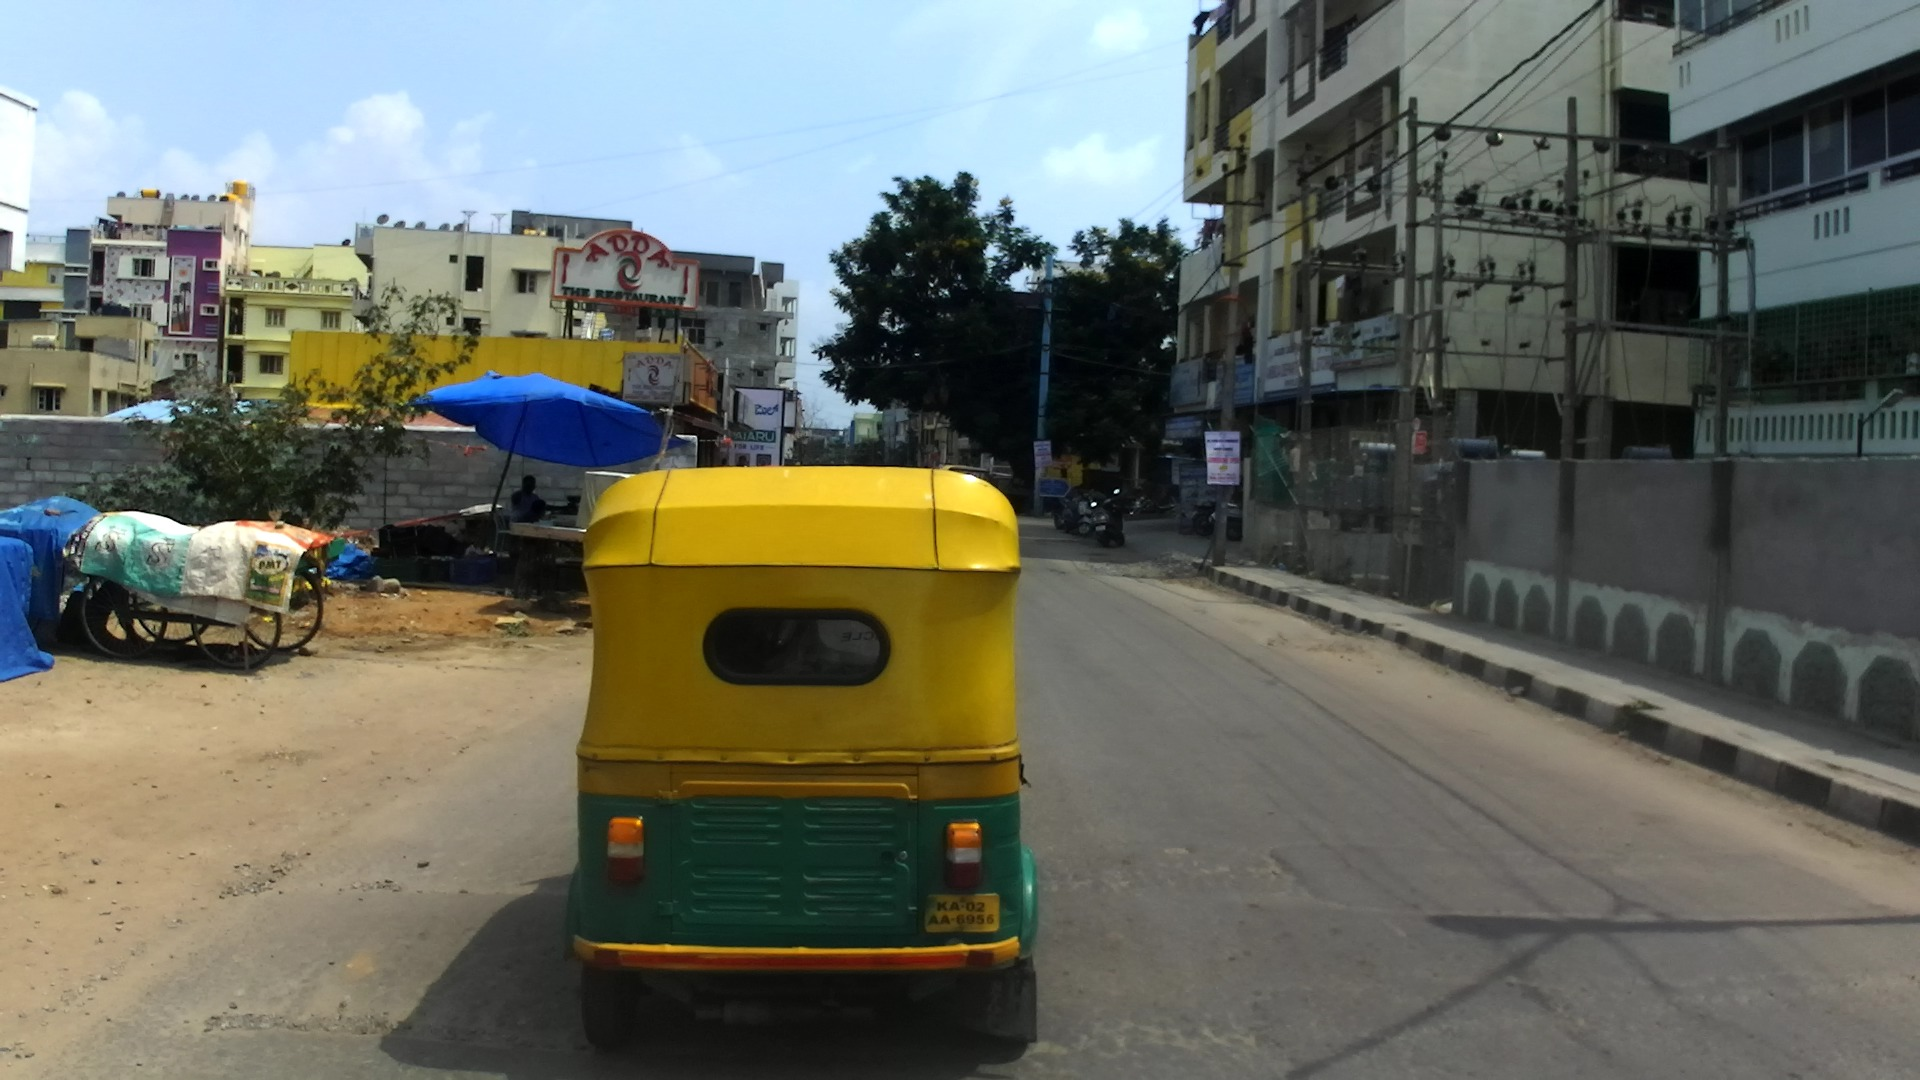autorickshaw: (568, 465, 1040, 1057)
car: (1128, 492, 1179, 517)
motorcycle: (1094, 489, 1127, 546), (1052, 490, 1095, 532), (1064, 493, 1092, 536), (1178, 503, 1212, 534)
person: (504, 471, 553, 588)
vehicle fallback: (78, 506, 327, 663), (1, 496, 102, 629), (508, 499, 590, 602), (1, 539, 52, 685), (1190, 498, 1241, 539), (939, 466, 991, 487)
